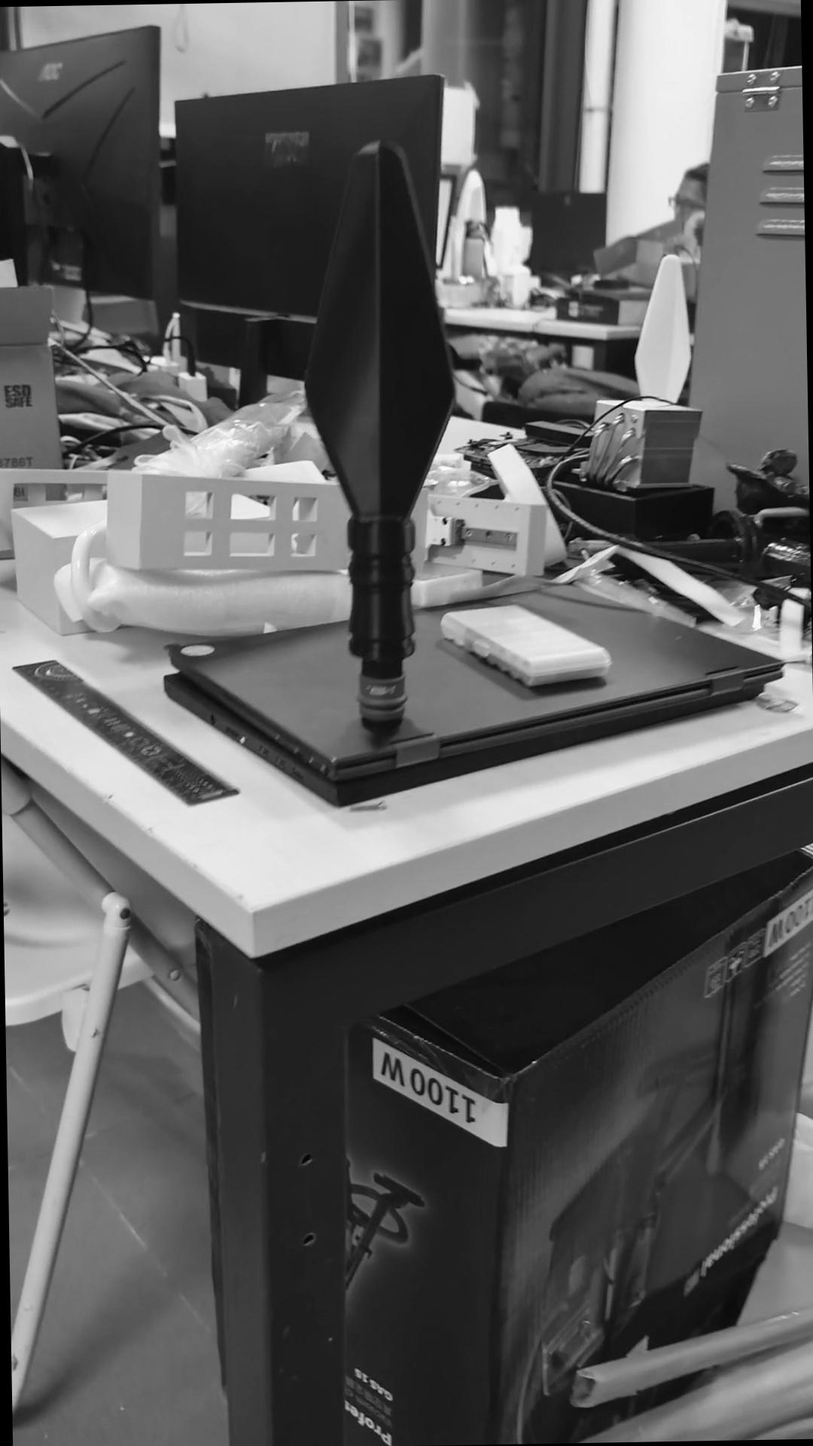base: (346, 663, 415, 737)
